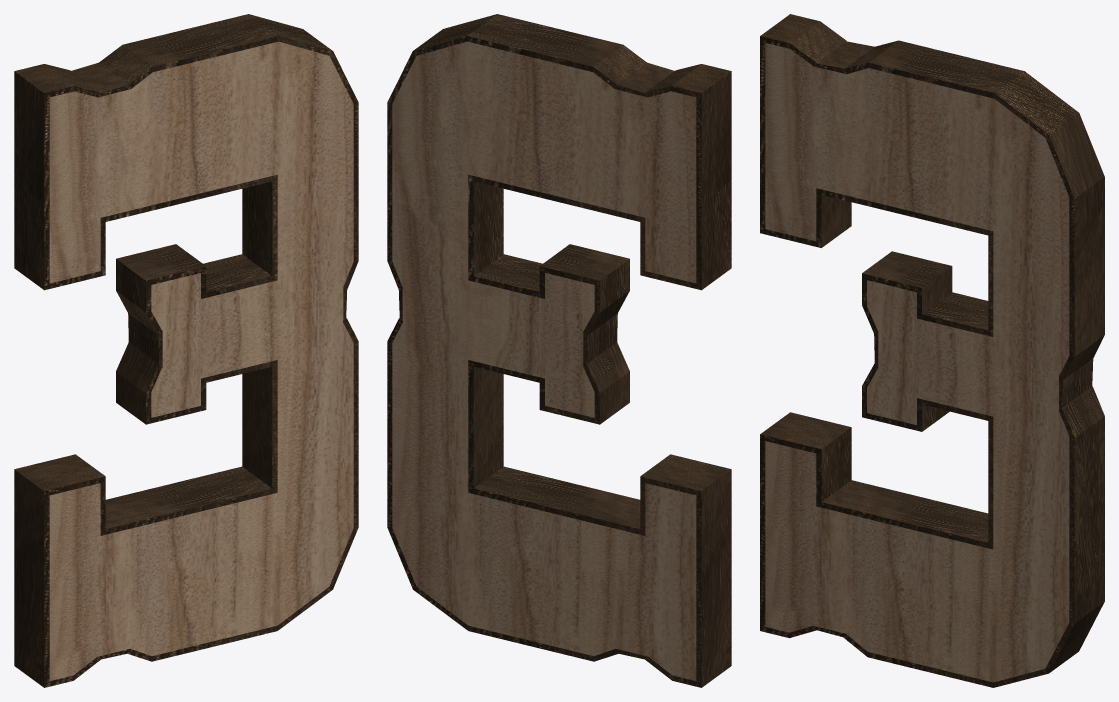
3 views of the same model, side by side, from view 1: azimuth 30°, elevation 25°; view 2: azimuth 150°, elevation 25°; view 3: azimuth 330°, elevation 25° (orthographic).
Parts seen in each view (by area): view 1: 3, 3_outline; view 2: 3, 3_outline; view 3: 3, 3_outline.
Boxes of the visible parts, x1,y1,x2,y2 form: 3: (49, 41, 353, 680); 3_outline: (14, 14, 358, 687); 3: (392, 41, 696, 680); 3_outline: (387, 14, 731, 687); 3: (765, 43, 1069, 682); 3_outline: (760, 14, 1104, 687).
Size of the model in its own units: 60.2 by 109 by 10.
Materials: 2 (2 with a texture image).
